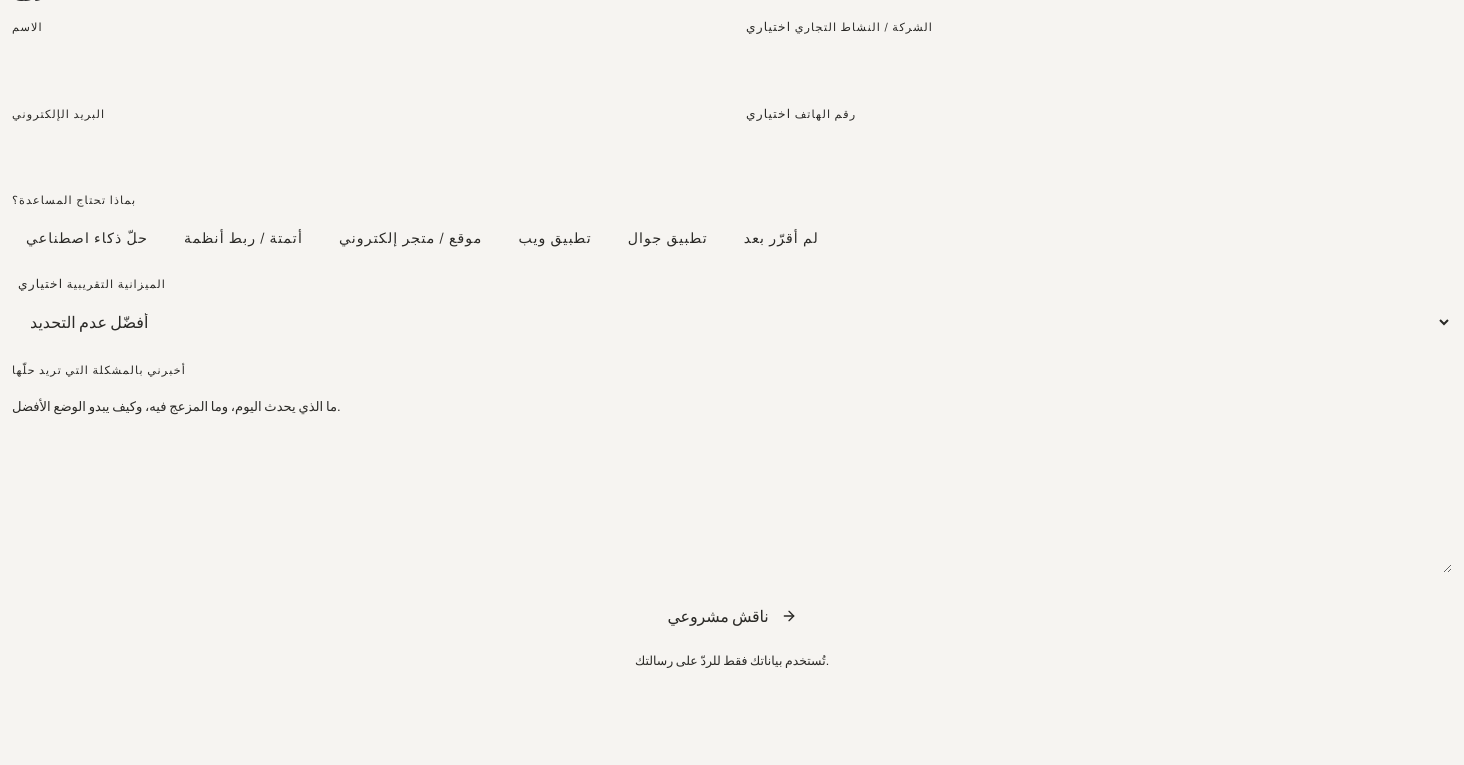
Test: ar uses its own plural form in the error summary
Click the button "ناقش مشروعي" at (732, 616), box [12,591,1452,641]
(page scrolled)
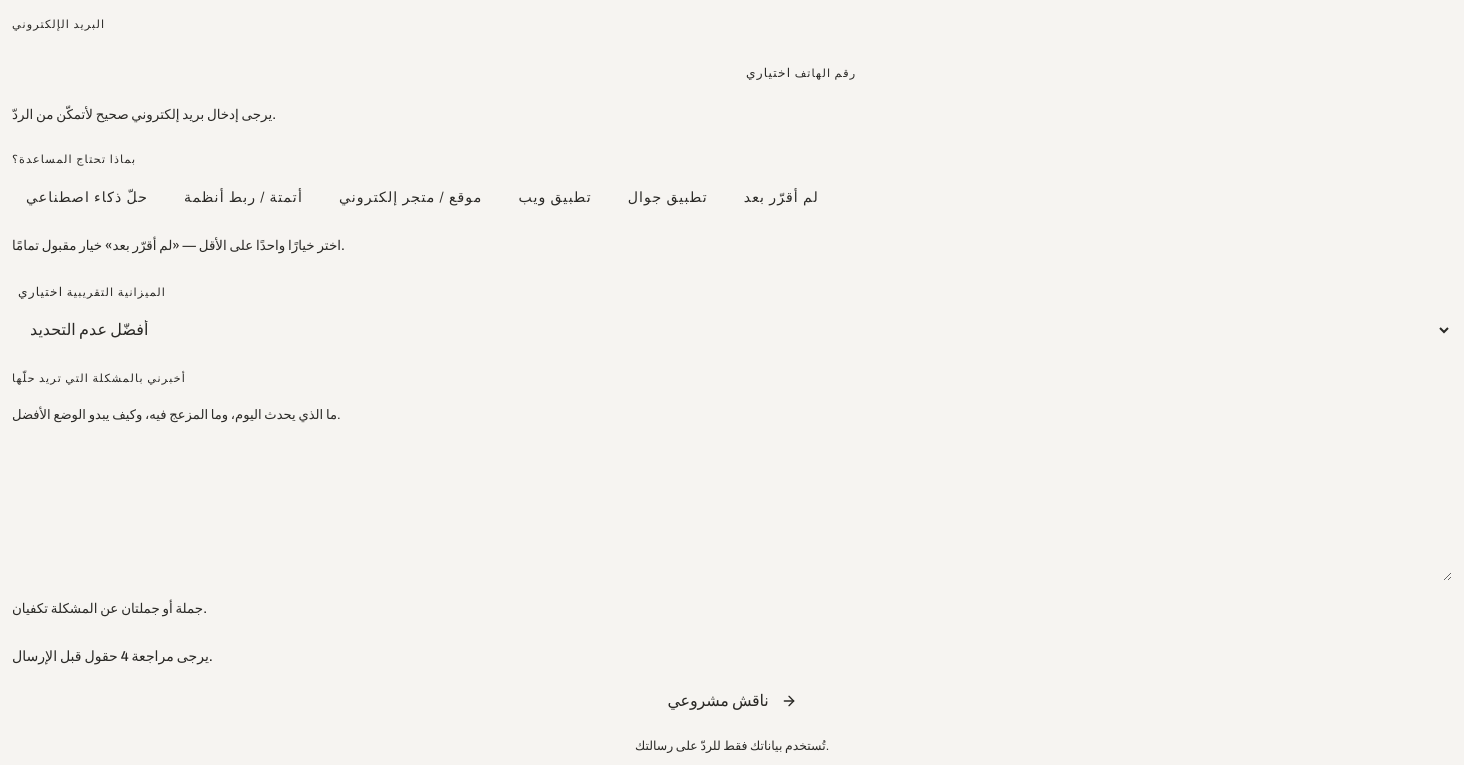
Now the message reads "يرجى مراجعة 4 حقول قبل الإرسال.", box [12,649,213,664]
